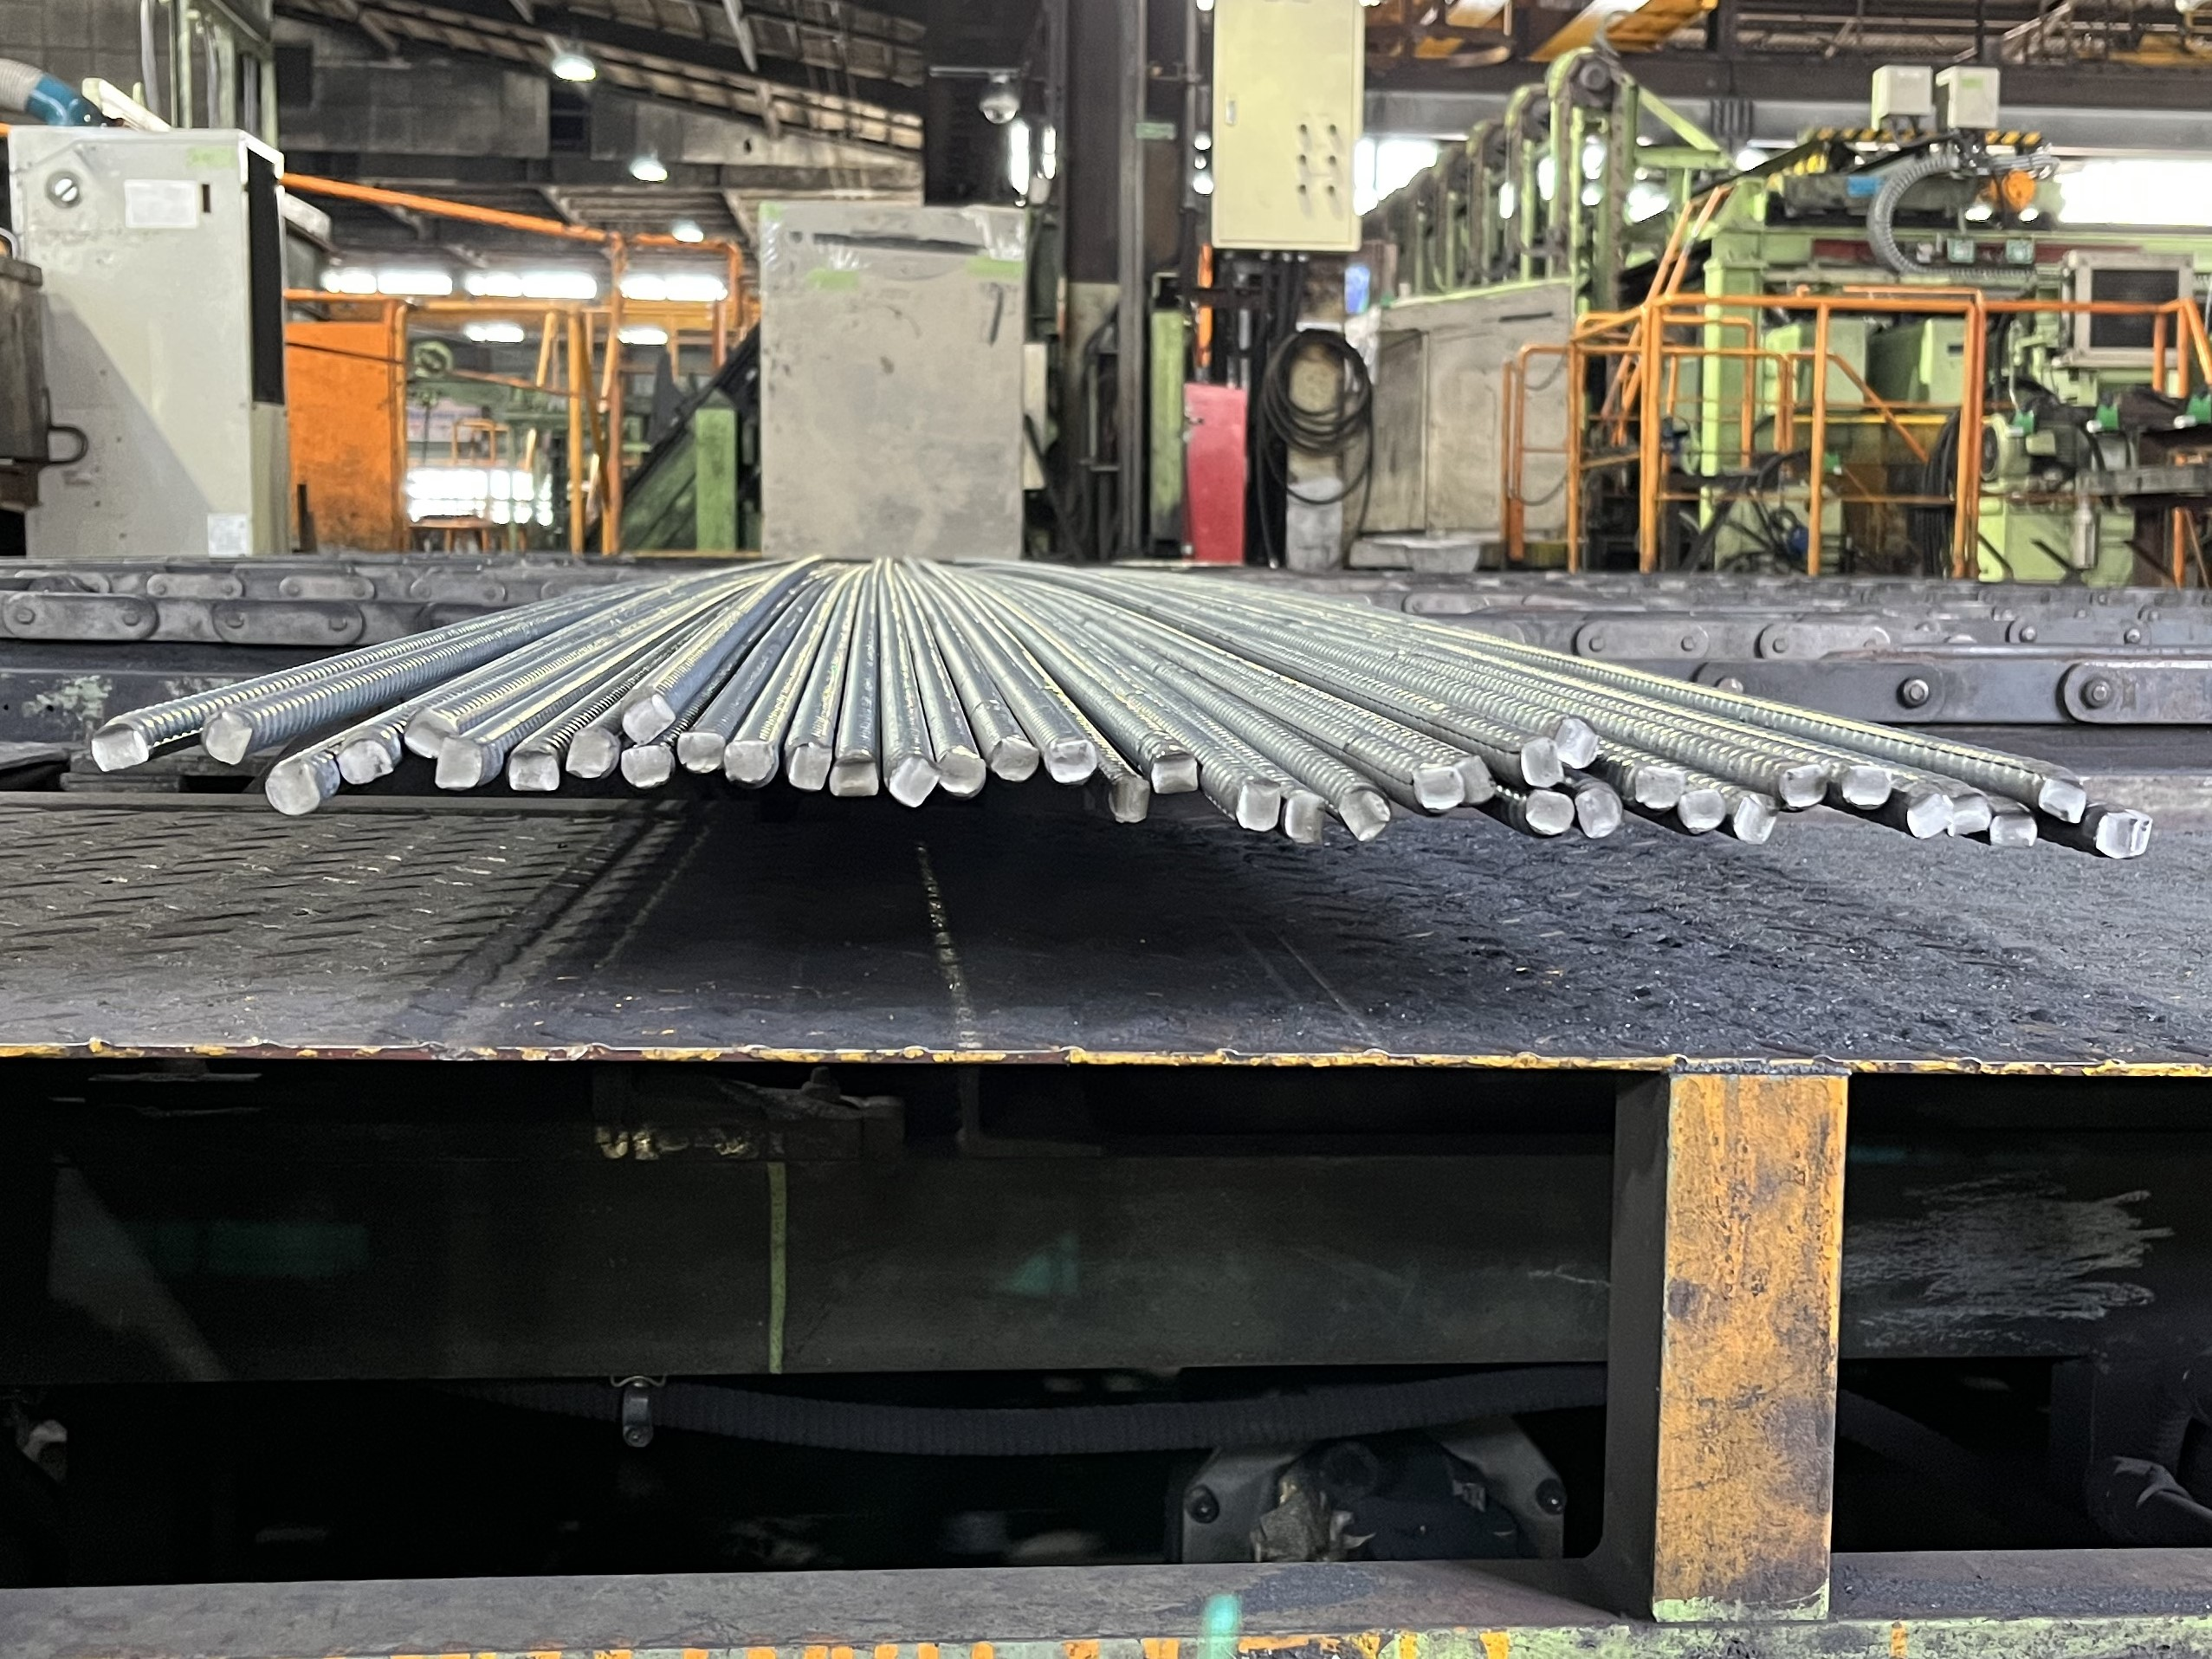rod: (261, 755, 320, 816), (1338, 786, 1393, 845), (887, 751, 941, 810), (89, 721, 150, 774), (402, 706, 460, 760), (202, 706, 253, 767), (620, 692, 676, 746), (1413, 760, 1467, 814), (721, 739, 780, 788), (1522, 786, 1576, 838), (434, 735, 484, 791), (1043, 737, 1101, 786), (1575, 782, 1623, 840), (1552, 713, 1599, 772), (2034, 775, 2088, 826), (566, 725, 615, 781), (336, 739, 394, 786), (1731, 789, 1778, 847), (503, 748, 563, 793), (937, 746, 988, 798), (1904, 789, 1954, 842), (827, 751, 881, 800), (618, 744, 674, 791), (1235, 779, 1282, 835), (1632, 765, 1688, 812), (1676, 788, 1728, 836), (1777, 762, 1829, 810), (1841, 762, 1893, 810), (1517, 735, 1564, 789), (2090, 807, 2137, 861), (1282, 789, 1324, 849), (1150, 749, 1202, 796), (1946, 786, 1993, 838), (1987, 807, 2041, 852), (674, 728, 725, 775), (989, 735, 1040, 782), (1106, 772, 1151, 824), (1454, 755, 1498, 809), (787, 741, 831, 793)
